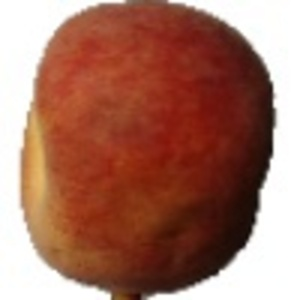pêssego: (17, 1, 277, 300)
